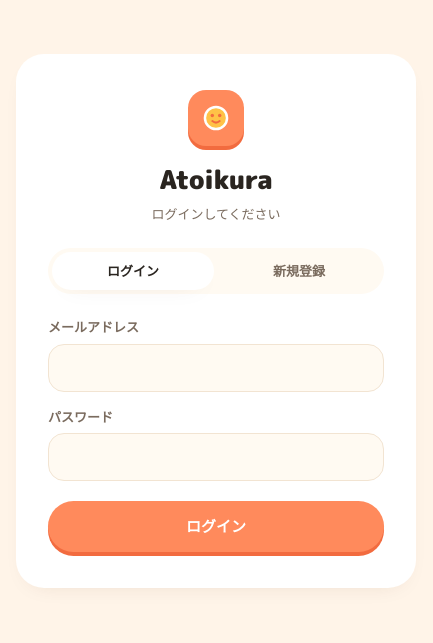
Scenario: LoginScreen › says the credentials are wrong when login is refused
The image size is (433, 643).
Step 1. Type "dev@atoikura.local" into the field labelled "メールアドレス" → {"x": 216, "y": 368}, box x1=48 y1=344 x2=384 y2=392
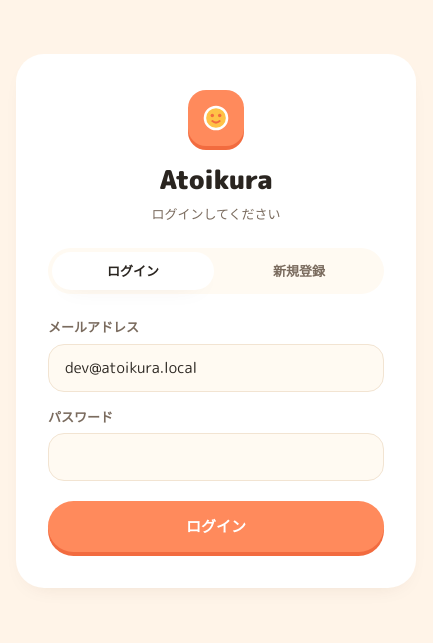
Step 2. Type "wrong" into the password field labelled "パスワード" → {"x": 216, "y": 457}, box x1=48 y1=433 x2=384 y2=481
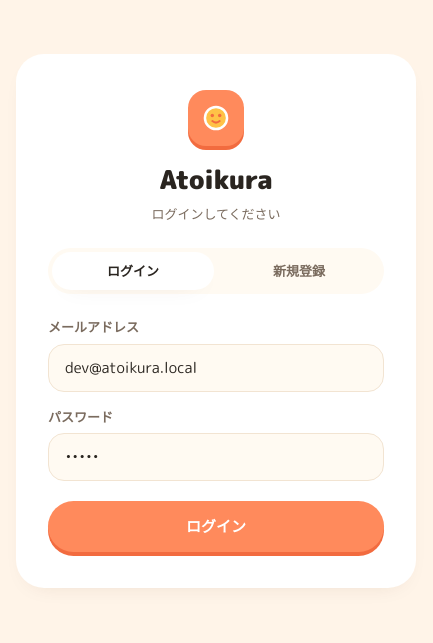
Step 3. Click the button "ログイン" below "パスワード" → {"x": 216, "y": 527}, box x1=48 y1=501 x2=384 y2=552
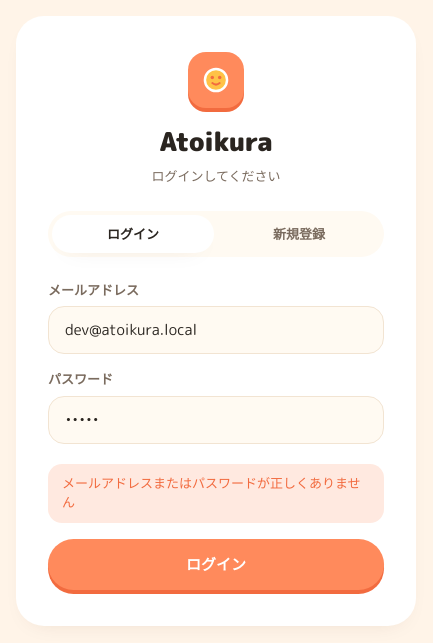
expect the text "メールアドレスまたはパスワードが正しくありません" is shown: met, box x1=48 y1=464 x2=384 y2=523
